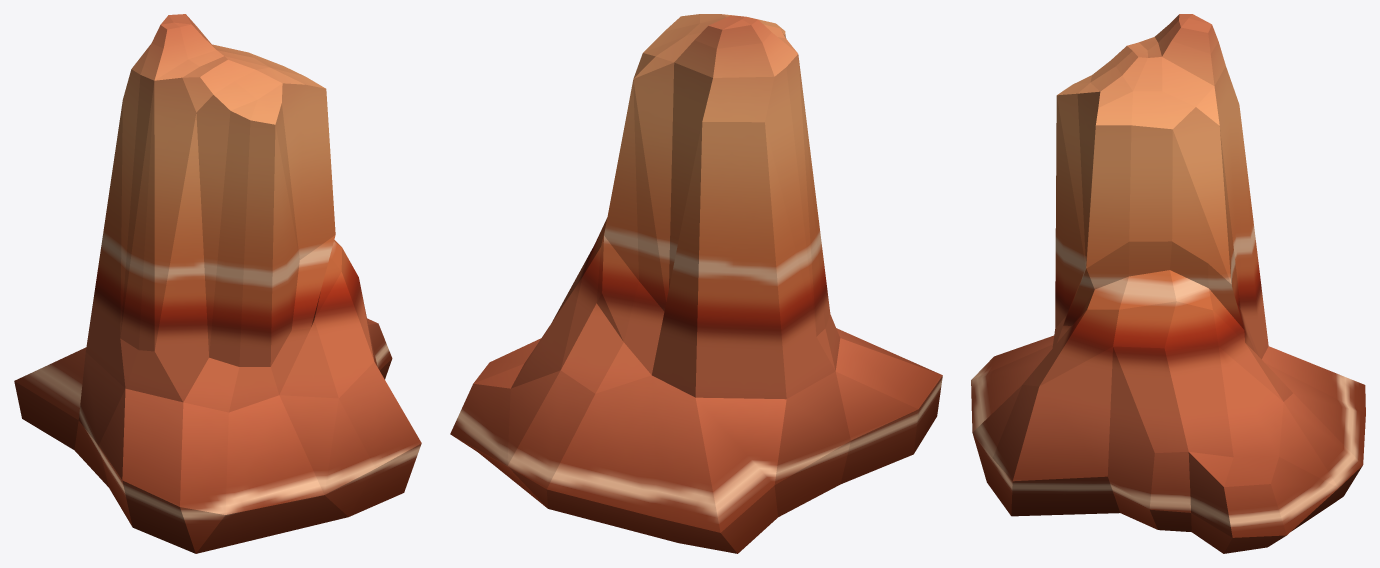
Rendered from Rock_CanyonLarge.fbx.
3 renders of one model, left to right at view 1: azimuth 30°, elevation 25°; view 2: azimuth 150°, elevation 25°; view 3: azimuth 270°, elevation 25°, orthographic. The views are drawn at different scales.
Parts seen in each view (by area): view 1: Rock_CanyonLarge; view 2: Rock_CanyonLarge; view 3: Rock_CanyonLarge.
Part boxes in pixels (bbox=[...]): Rock_CanyonLarge: bbox=[14, 14, 421, 553]; Rock_CanyonLarge: bbox=[450, 14, 942, 553]; Rock_CanyonLarge: bbox=[971, 14, 1365, 553].
Size of the model in its own units: 177 by 211 by 175.
